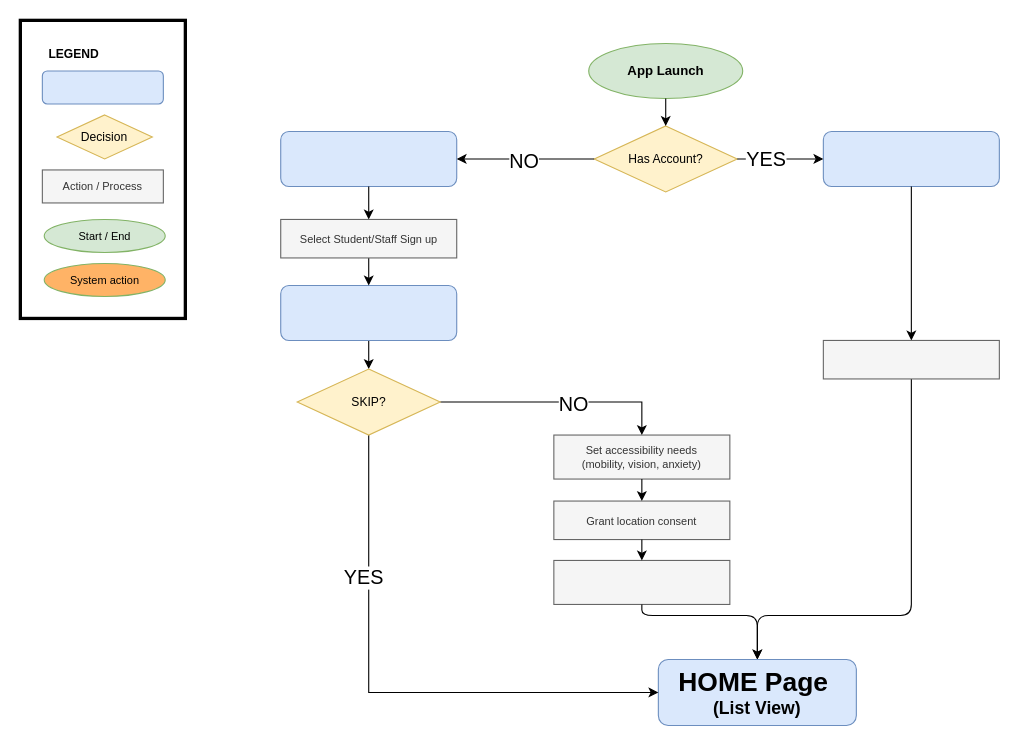
The diagram is 1019 pixels wide and 745 high, and some of its shapes have lost their labels. Here are the shapes that lost their labels. From the top down, the centre of each, then its label:
pixel 102 87: Screen / Page
pixel 368 158: Sign Up(Goal 1)
pixel 910 158: Login Screen (Goal 1)
pixel 368 312: Preferences Setup
pixel 910 359: Enter Username + Password
pixel 641 581: Set emergency contacts (optional)
